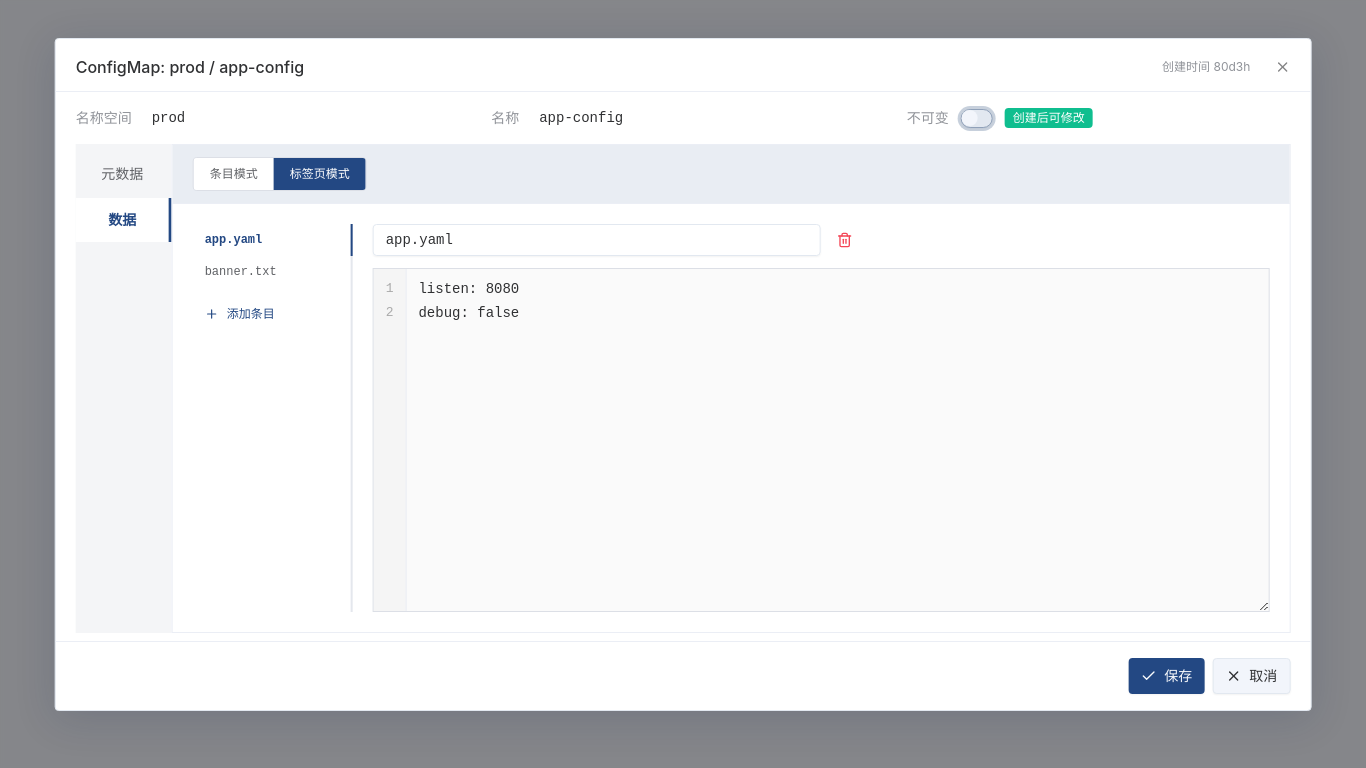
ConfigMap dialog editing › retains the same draft across entry and tab layouts and rejects duplicate keys
Replace the text in the text box named "值 1" with "draft": (837, 440) [406,269,1268,611]
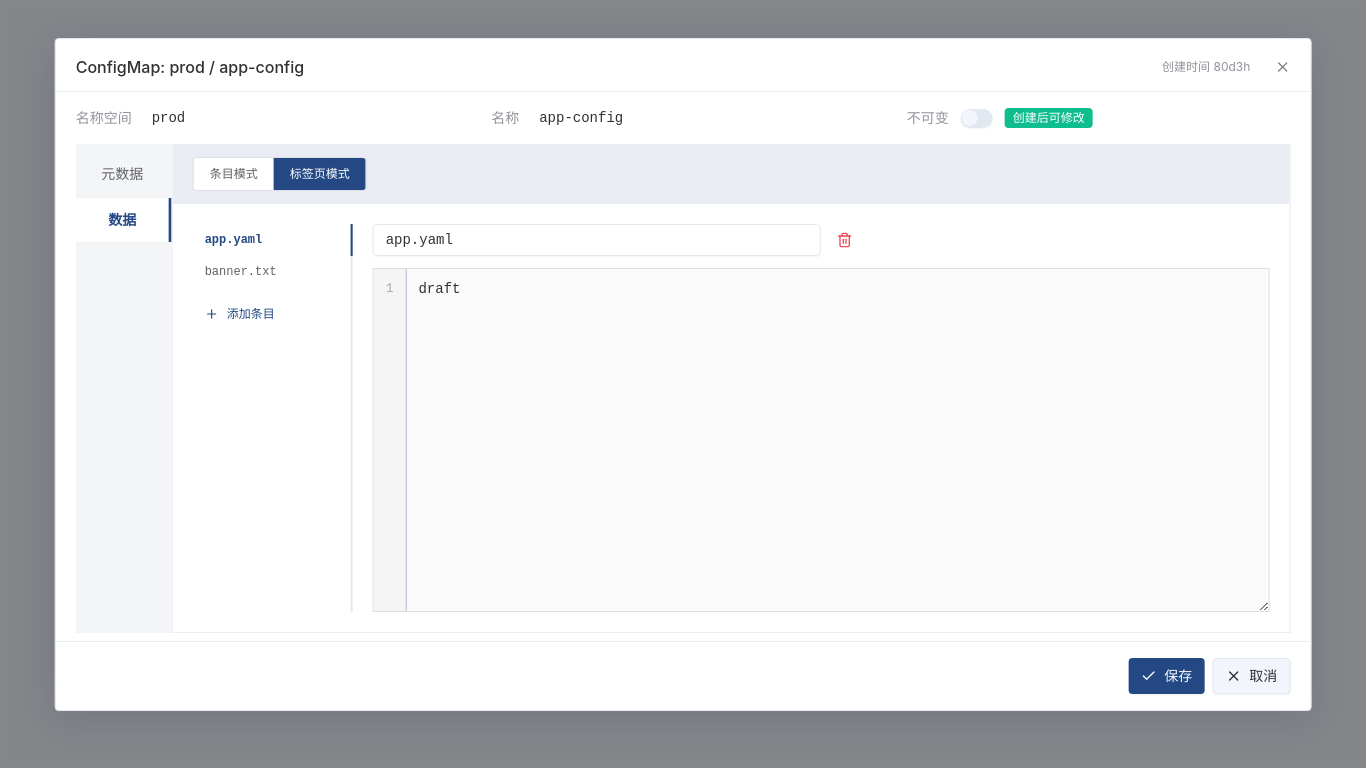
Click the button "条目模式": (234, 174) [194,158,274,190]
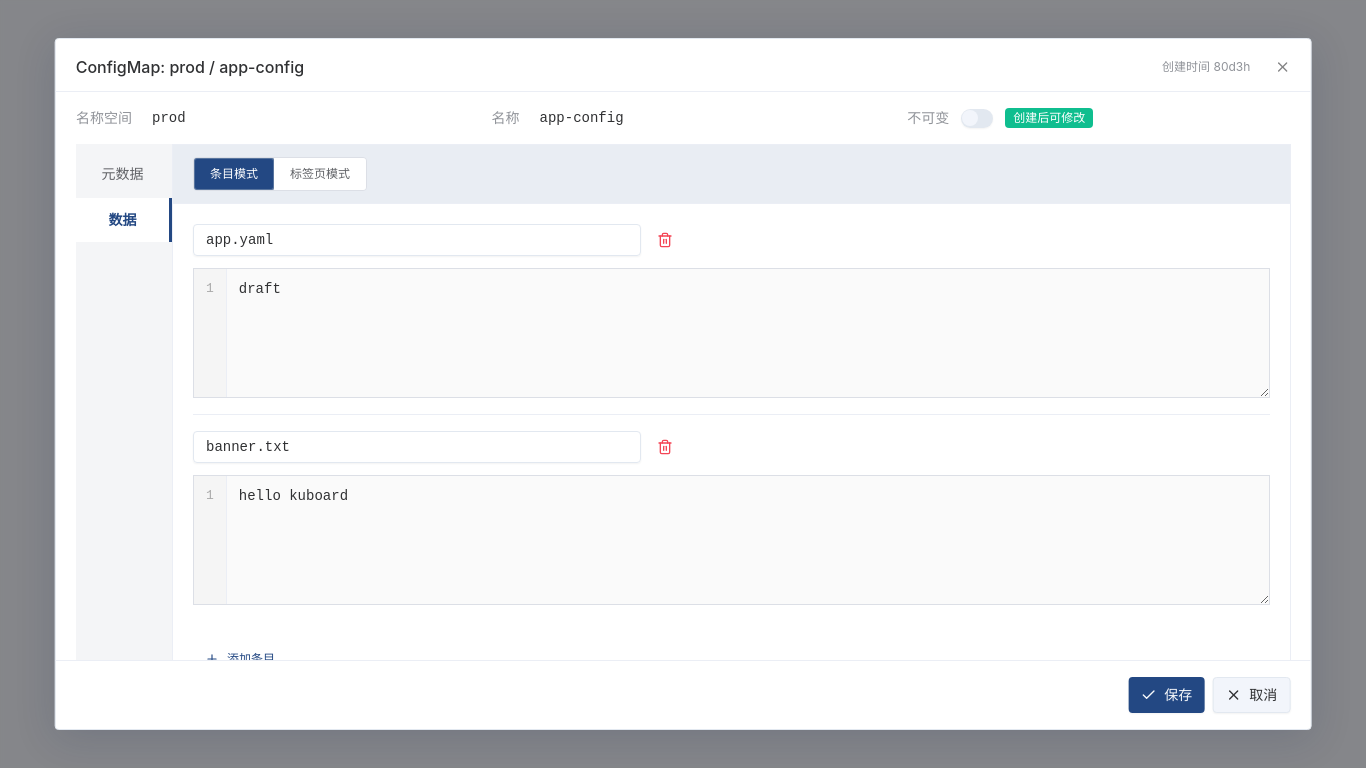
Check: the text box named "值 1" holds "draft", box [226,269,1268,397]
Replace the text in the field named "键 2" with "app.yaml": (417, 447) [193,431,641,463]
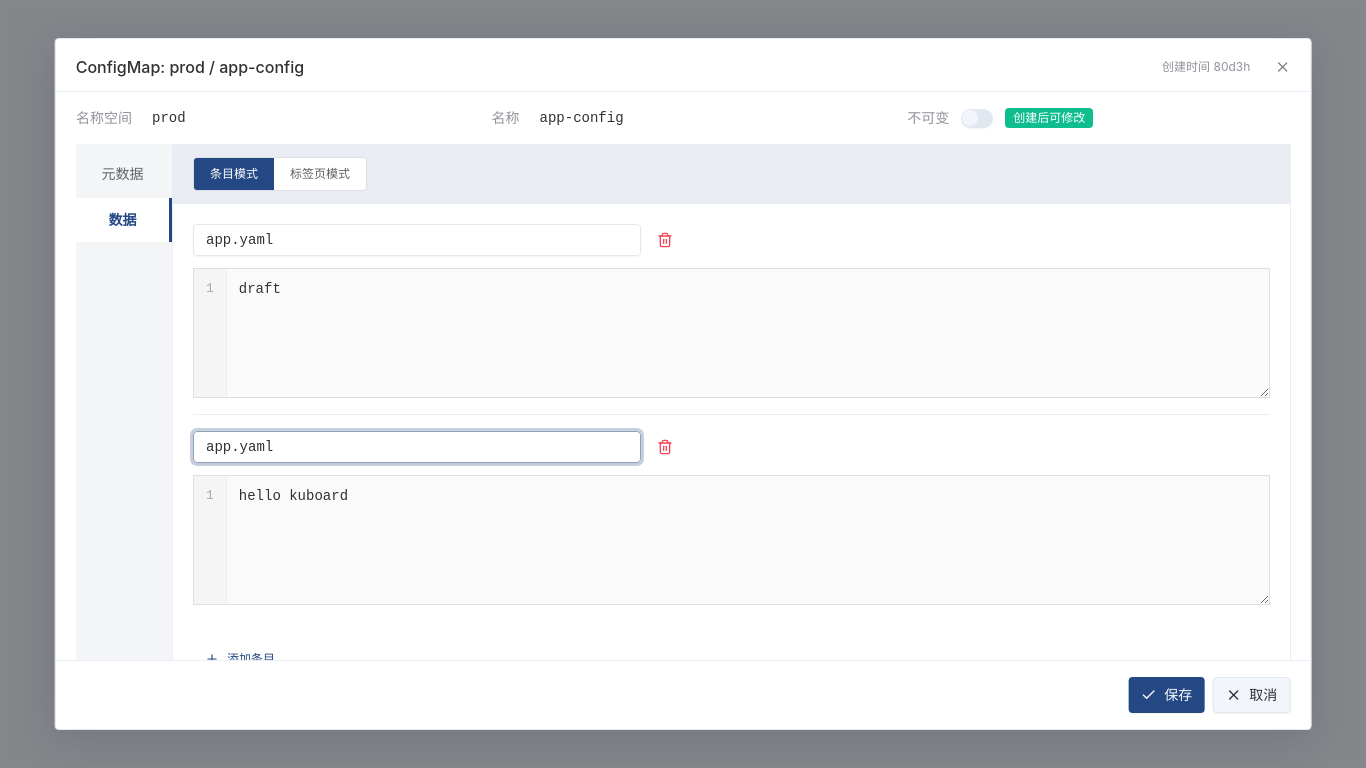
Click the button "保存": (1166, 695) [1128,677,1204,713]
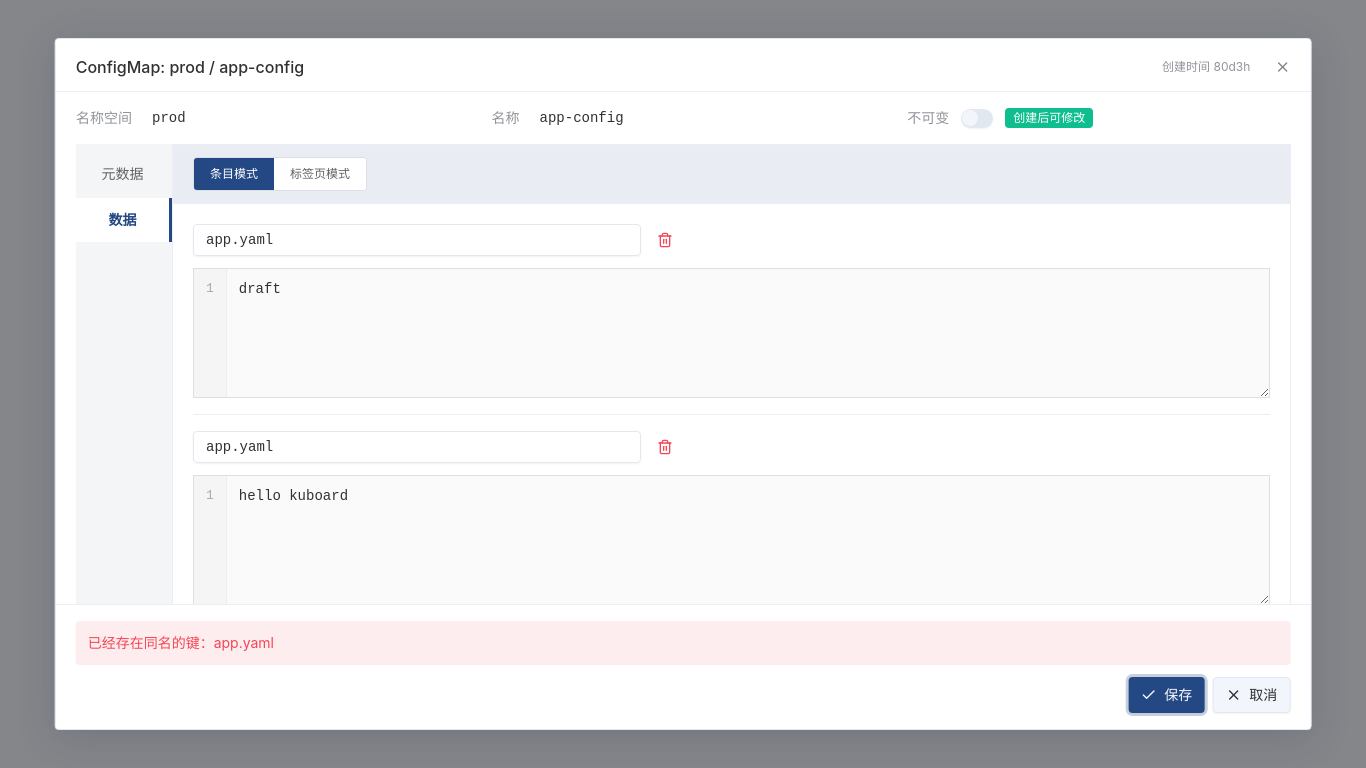
Check: the message shows "已经存在同名的键", box [88,634,274,651]
